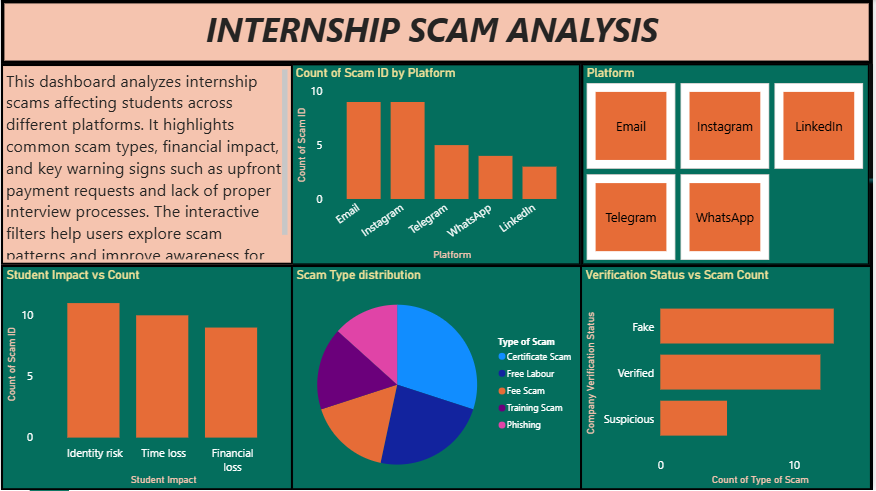

What the dashboard file says about the page in this screenshot:
{"tool":"powerbi","page":{"name":"Page 1","canvas":[1280,720],"ordinal":0},"visuals":[{"type":"textbox","box":[0,0,1280,94.1],"z":0},{"type":"columnChart","fields":{"Category":["Sheet1.Platform"],"Y":["CountNonNull(Sheet1.Scam ID)"]},"box":[426.1,94,424.7,295.3],"z":1000},{"type":"pieChart","title":"Scam Type distribution","fields":{"Category":["Sheet1.Type of Scam"],"Y":["CountNonNull(Sheet1.Type of Scam)"]},"box":[426.1,389.4,429.1,330.6],"z":2000},{"type":"clusteredColumnChart","title":"Student Impact vs Count","fields":{"Category":["Sheet1.Student Impact"],"Y":["CountNonNull(Sheet1.Scam ID)"]},"box":[0,389.4,429.1,330.6],"z":3000},{"type":"clusteredBarChart","title":"Verification Status vs Scam Count","fields":{"Category":["Sheet1.Company Verification Status"],"Y":["CountNonNull(Sheet1.Type of Scam)"]},"box":[850.8,389.4,429.1,330.6],"z":4000},{"type":"advancedSlicerVisual","fields":{"Values":["Sheet1.Platform"]},"box":[853.7,94,421.7,295.3],"z":5000},{"type":"textbox","box":[0,94,429.1,295.3],"z":6000}]}

Visuals, with their boxes in screenshot pixels (x1, y1, x2, y2), scaled from the page's 1280x720 canvas onto the 876x491 screenshot:
textbox: box=[0, 0, 875, 64]
columnChart - Sheet1.Platform x CountNonNull(Sheet1.Scam ID): box=[292, 64, 582, 265]
"Scam Type distribution" pieChart: box=[292, 266, 585, 490]
"Student Impact vs Count" clusteredColumnChart: box=[0, 266, 294, 490]
"Verification Status vs Scam Count" clusteredBarChart: box=[582, 266, 875, 490]
advancedSlicerVisual - Sheet1.Platform: box=[584, 64, 873, 265]
textbox: box=[0, 64, 294, 265]
